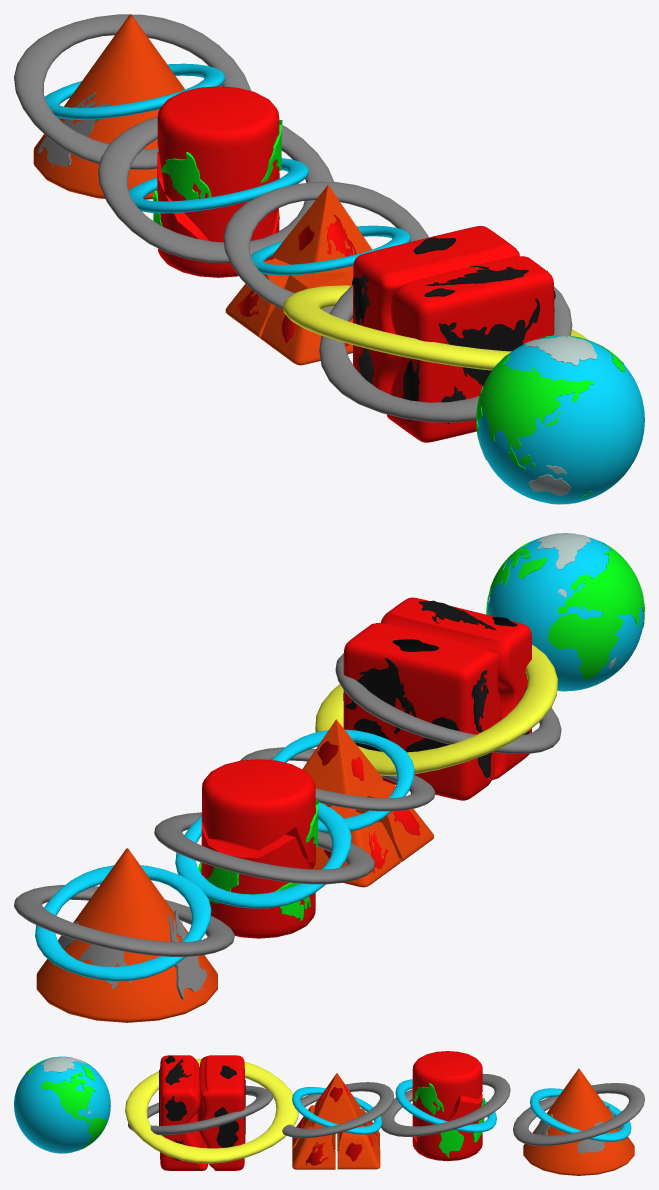
The model's file is planet.fbx.
3 views of the same model, one above another, from view 1: azimuth 30°, elevation 25°; view 2: azimuth 150°, elevation 25°; view 3: azimuth 270°, elevation 25° (orthographic). The views are drawn at different scales.
Parts seen in each view (by area): view 1: Box001, Ocean, Cylinder001, Cylinder002, Box002, Box009, Box007, Box003, Box005, Box006, Box010, Box008 (+1 smaller); view 2: Box001, Ocean, Cylinder001, Cylinder002, Box002, Box005, Box010, Box009, Box007, Box008, Box006, Box004 (+1 smaller); view 3: Box001, Ocean, Cylinder001, Cylinder002, Box005, Box002, Box009, Box007, Box003, Box006, Box010, Box004 (+1 smaller).
Part boxes in pixels (left/top/right/bottom): Box001: left=352, top=226, right=555, bottom=442; Ocean: left=476, top=335, right=644, bottom=504; Cylinder001: left=152, top=86, right=282, bottom=277; Cylinder002: left=33, top=14, right=184, bottom=199; Box002: left=225, top=185, right=371, bottom=365; Box009: left=14, top=14, right=251, bottom=169; Box007: left=98, top=116, right=334, bottom=263; Box003: left=223, top=181, right=428, bottom=318; Box005: left=283, top=285, right=587, bottom=370; Box006: left=319, top=285, right=572, bottom=422; Box010: left=45, top=63, right=225, bottom=119; Box008: left=129, top=158, right=309, bottom=213; Box001: left=343, top=597, right=531, bottom=800; Ocean: left=486, top=533, right=644, bottom=691; Cylinder001: left=198, top=759, right=318, bottom=938; Cylinder002: left=36, top=848, right=217, bottom=1022; Box002: left=302, top=719, right=433, bottom=887; Box005: left=315, top=645, right=557, bottom=775; Box010: left=35, top=865, right=211, bottom=981; Box009: left=14, top=885, right=234, bottom=956; Box007: left=154, top=812, right=374, bottom=884; Box008: left=175, top=802, right=351, bottom=908; Box006: left=335, top=653, right=561, bottom=753; Box004: left=272, top=729, right=414, bottom=833; Box001: left=159, top=1055, right=245, bottom=1170; Ocean: left=14, top=1056, right=110, bottom=1153; Cylinder001: left=412, top=1051, right=484, bottom=1161; Cylinder002: left=523, top=1068, right=634, bottom=1175; Box005: left=125, top=1058, right=298, bottom=1163; Box002: left=292, top=1073, right=380, bottom=1169; Box009: left=513, top=1083, right=644, bottom=1146; Box007: left=381, top=1073, right=510, bottom=1136; Box003: left=282, top=1082, right=393, bottom=1138; Box006: left=128, top=1085, right=272, bottom=1135; Box010: left=530, top=1088, right=631, bottom=1141; Box004: left=292, top=1087, right=381, bottom=1134.
Size of the model in its own units: 91.52 by 54.63 by 347.
